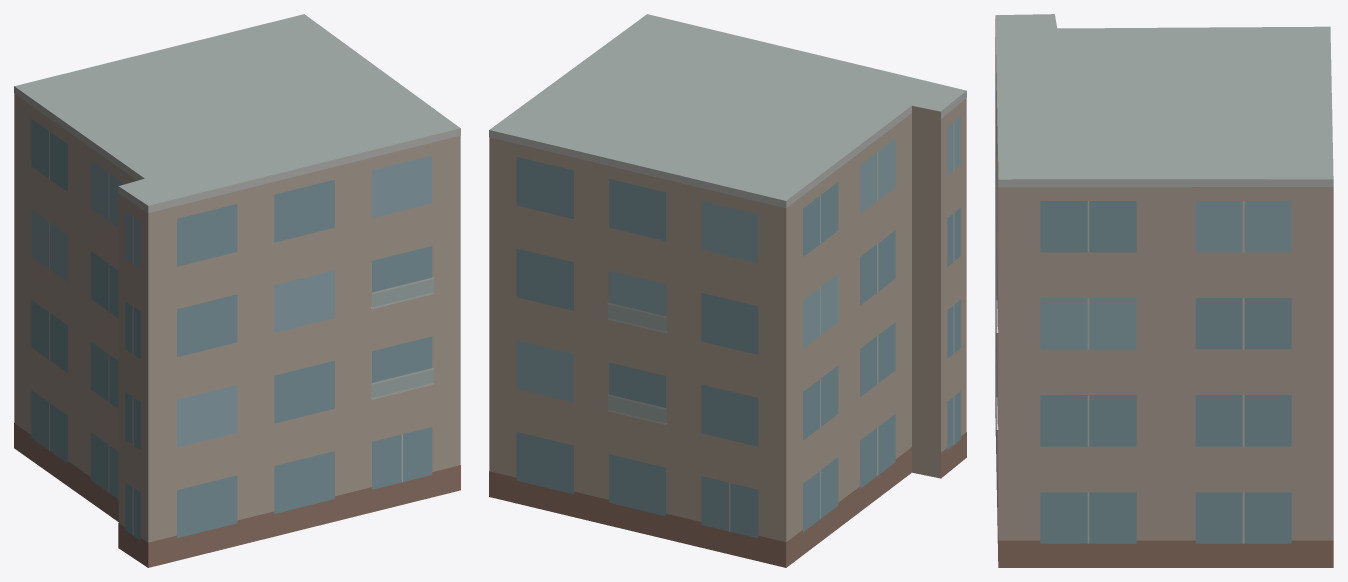
The model's file is survey-upis-32777979.glb.
3 renders of one model, left to right at view 1: azimuth 30°, elevation 25°; view 2: azimuth 150°, elevation 25°; view 3: azimuth 270°, elevation 25°, orthographic. The views are drawn at different scales.
Parts seen in each view (by area): view 1: survey-upis-32777979.tmp; view 2: survey-upis-32777979.tmp; view 3: survey-upis-32777979.tmp.
Part boxes in pixels (left/top/right/bottom): survey-upis-32777979.tmp: left=14, top=14, right=460, bottom=567; survey-upis-32777979.tmp: left=489, top=14, right=966, bottom=567; survey-upis-32777979.tmp: left=995, top=14, right=1333, bottom=567.
Bounding box in the file's own units: 11.16 × 12.2 × 9.64.
